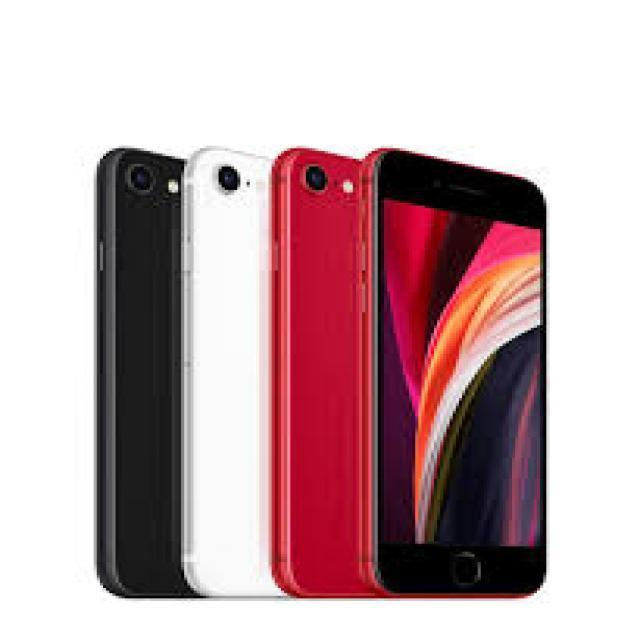phone: (357, 143, 557, 606)
